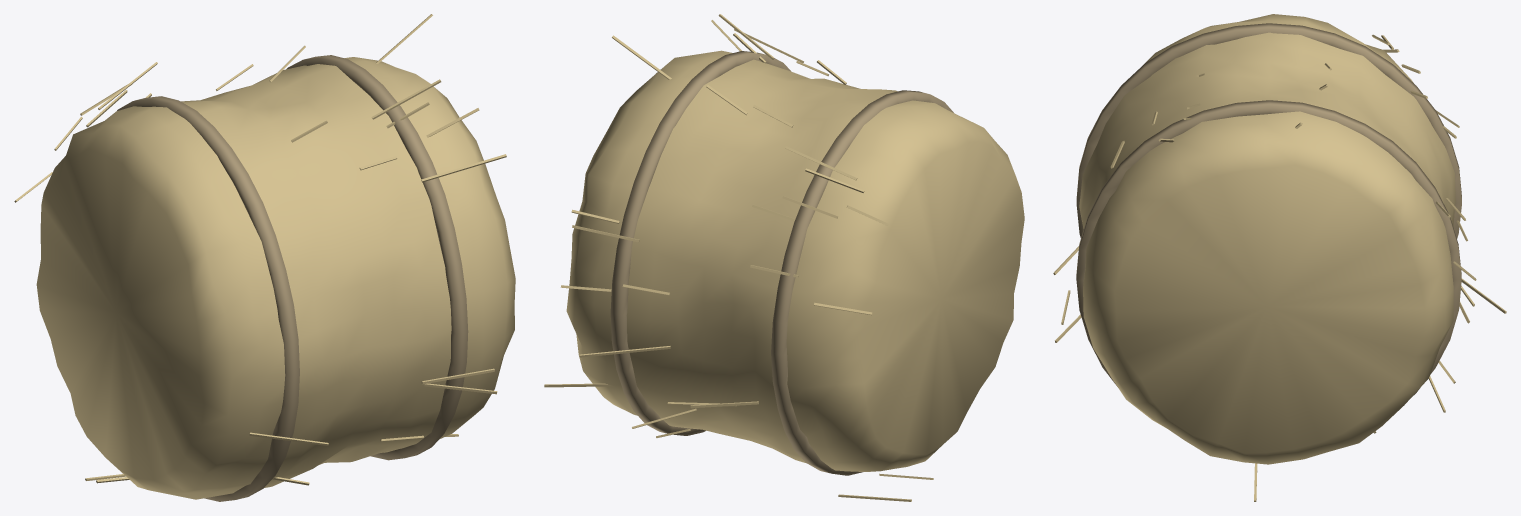
Rendered from hay.glb.
3 views of the same model, side by side, from view 1: azimuth 30°, elevation 25°; view 2: azimuth 150°, elevation 25°; view 3: azimuth 270°, elevation 25° (orthographic). The views are drawn at different scales.
Visible parts, largest first — view 1: hay; view 2: hay; view 3: hay.
Part boxes in pixels (bbox=[...]): hay: bbox=[14, 14, 515, 501]; hay: bbox=[544, 14, 1024, 501]; hay: bbox=[1053, 14, 1506, 501].
Size of the model in its own units: 1.23 by 1.39 by 1.49.
